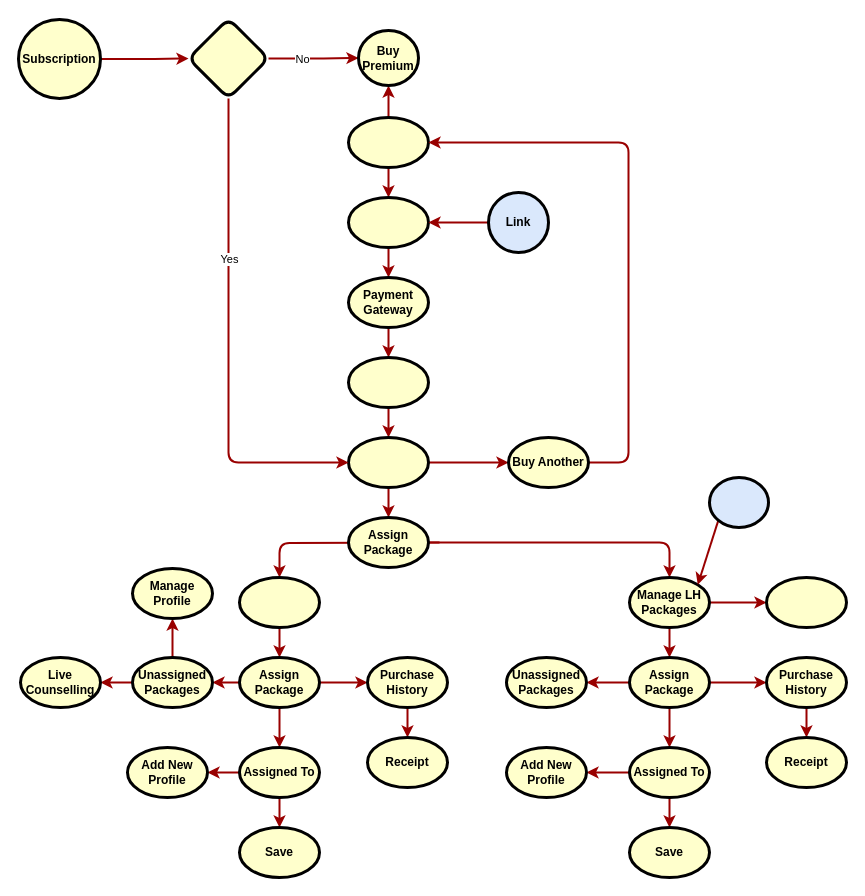
Some shapes in this 865 by 896 pixel diagram are drawn without their labels. Each missing label, with the box of its shape:
Checkout: (346, 196, 430, 248)
Go To: (708, 476, 770, 528)
Invoice Generated: (346, 356, 430, 408)
Manage LC Packages: (238, 576, 320, 628)
Manage Subscription: (346, 436, 430, 488)
Package Bought: (186, 16, 270, 100)
Plans: (346, 116, 430, 168)
Visit LH Page: (764, 576, 848, 628)
